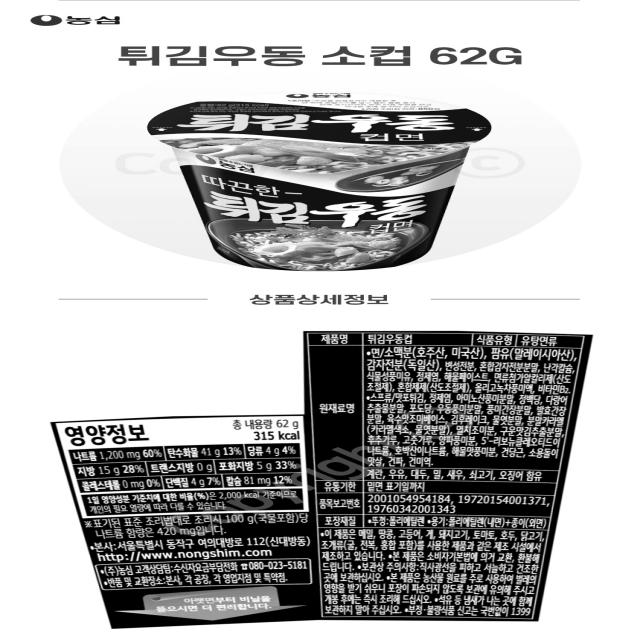Nutrition Label: (17, 413, 330, 512)
